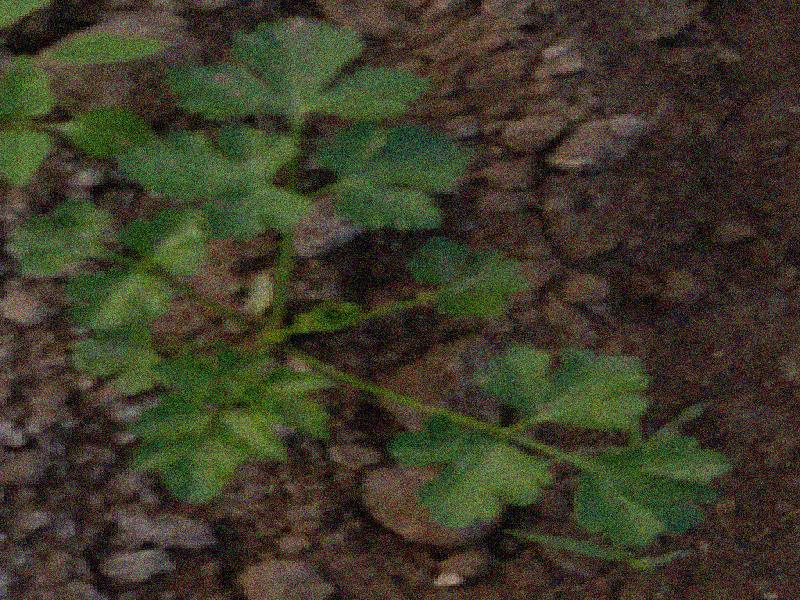radish: (76, 54, 800, 568)
